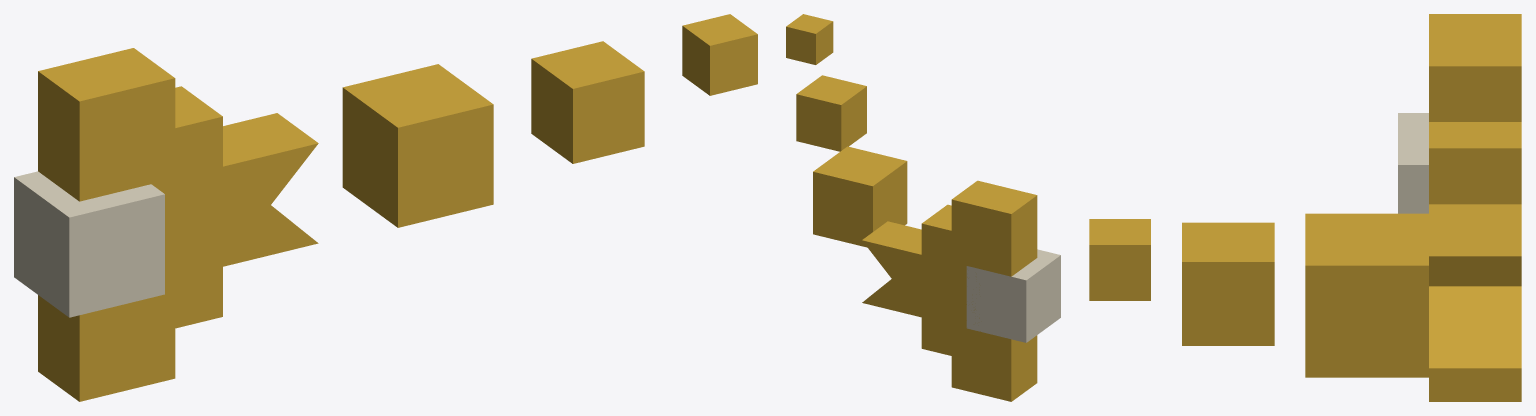
File: fx_bouncywall.glb
The picture shows the model from 3 angles, left to right: view 1: azimuth 30°, elevation 25°; view 2: azimuth 150°, elevation 25°; view 3: azimuth 270°, elevation 25°; orthographic projection. The views are drawn at different scales.
Visible parts, largest first — view 1: chevron, step_1, core, step_2, step_3; view 2: chevron, step_1, core, step_2, step_3; view 3: chevron, step_1, step_2, step_3, core.
Part boxes in pixels (<box>): chevron: <box>38,48,318,401</box>; step_1: <box>342,64,493,227</box>; core: <box>14,171,164,317</box>; step_2: <box>531,41,644,163</box>; step_3: <box>682,14,757,95</box>; chevron: <box>862,180,1037,401</box>; step_1: <box>813,146,907,247</box>; core: <box>966,249,1060,342</box>; step_2: <box>796,75,866,151</box>; step_3: <box>786,14,833,64</box>; chevron: <box>1429,14,1521,401</box>; step_1: <box>1305,213,1428,377</box>; step_2: <box>1182,222,1274,345</box>; step_3: <box>1089,219,1150,300</box>; core: <box>1398,113,1428,213</box>.
Bounding box in the file's own units: 2.88 × 1.75 × 1.75.
